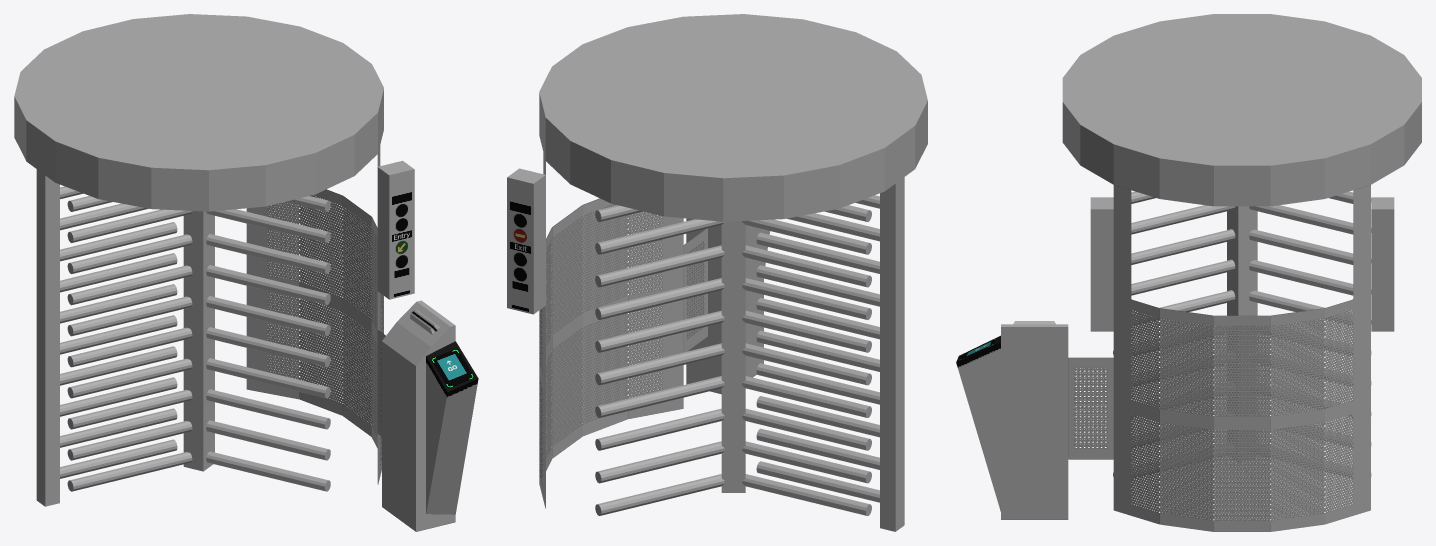
Rendered from nyc_subway_fare_gate_2_entrance_open.obj.
The picture shows the model from 3 angles, left to right: view 1: azimuth 30°, elevation 25°; view 2: azimuth 150°, elevation 25°; view 3: azimuth 270°, elevation 25°; orthographic projection. The views are drawn at different scales.
Visible parts, largest first — view 1: top, cube, wall, turnstile1, turnstile2, turnstileStatic, staticRod, turnstileRod; view 2: top, wall, turnstile2, turnstile3, turnstileStatic, cube, staticRod, turnstileRod; view 3: wall, top, cube, turnstile1, turnstile3, turnstileRod.
Part boxes in pixels (bbox=[...]): top: bbox=[14, 14, 383, 211]; cube: bbox=[377, 160, 478, 531]; wall: bbox=[246, 146, 383, 484]; turnstile1: bbox=[206, 196, 330, 491]; turnstile2: bbox=[67, 196, 192, 491]; turnstileStatic: bbox=[60, 186, 177, 478]; staticRod: bbox=[36, 169, 59, 506]; turnstileRod: bbox=[183, 211, 214, 471]; top: bbox=[539, 14, 927, 221]; wall: bbox=[539, 152, 683, 508]; turnstile2: bbox=[742, 205, 871, 515]; turnstile3: bbox=[595, 205, 724, 515]; turnstileStatic: bbox=[756, 195, 879, 502]; cube: bbox=[507, 168, 770, 394]; staticRod: bbox=[880, 177, 904, 531]; turnstileRod: bbox=[721, 221, 745, 492]; wall: bbox=[1113, 185, 1370, 531]; top: bbox=[1062, 14, 1421, 206]; cube: bbox=[956, 197, 1394, 519]; turnstile1: bbox=[1113, 191, 1235, 478]; turnstile3: bbox=[1249, 191, 1371, 478]; turnstileRod: bbox=[1227, 206, 1257, 461].
Bounding box in the file's own units: 2 × 2.25 × 2.59.
1 material, 1 textured.
